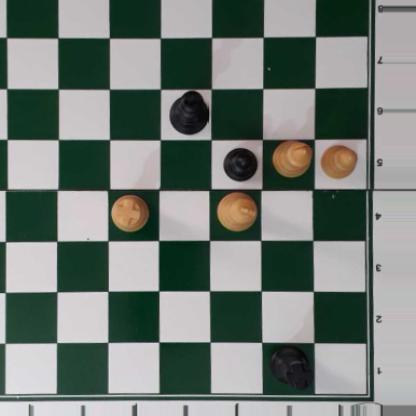black-king: (167, 90, 209, 134)
black-pawn: (223, 145, 258, 181)
black-rook: (269, 344, 314, 391)
white-bishop: (273, 139, 313, 178)
white-king: (216, 191, 258, 233)
white-pawn: (319, 145, 358, 178)
white-rook: (111, 194, 149, 231)
